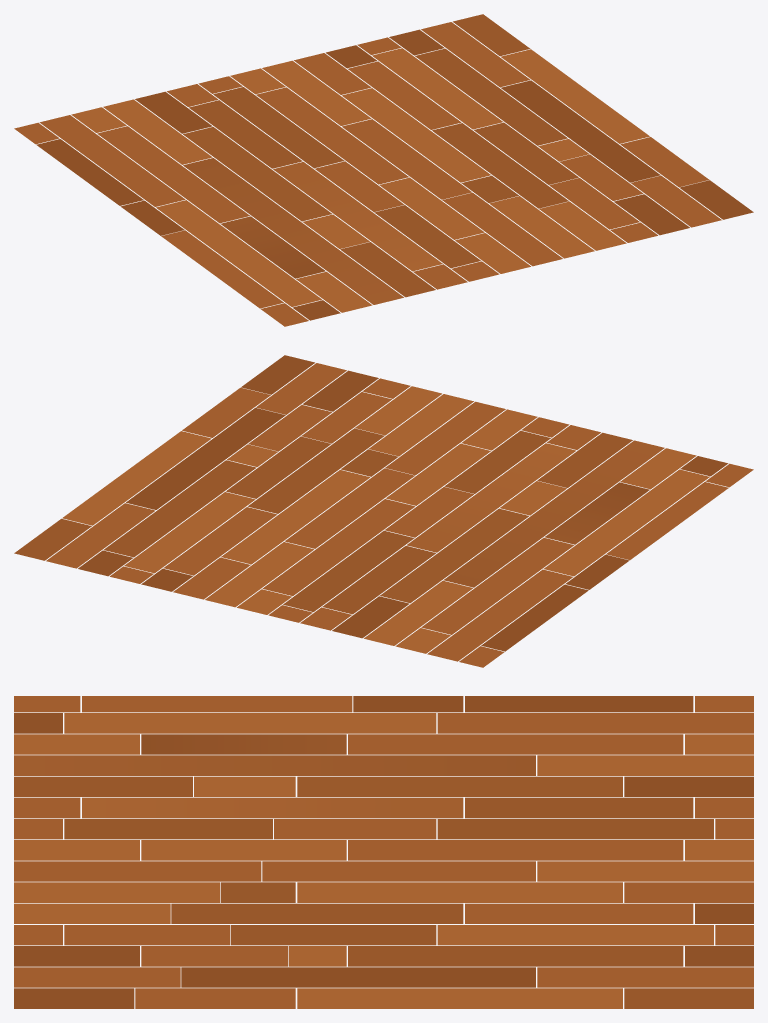
File: floor.fbx
3 views of the same model, one above another, from view 1: azimuth 30°, elevation 25°; view 2: azimuth 150°, elevation 25°; view 3: azimuth 270°, elevation 25° (orthographic). The views are drawn at different scales.
Visible parts, largest first — view 1: floor; view 2: floor; view 3: floor.
Boxes of the visible parts, x1=… form: floor: x1=14, y1=14, x2=753, y2=326; floor: x1=14, y1=355, x2=753, y2=667; floor: x1=14, y1=696, x2=753, y2=1008.
Size of the model in its own units: 807 by 0.000132 by 807.
